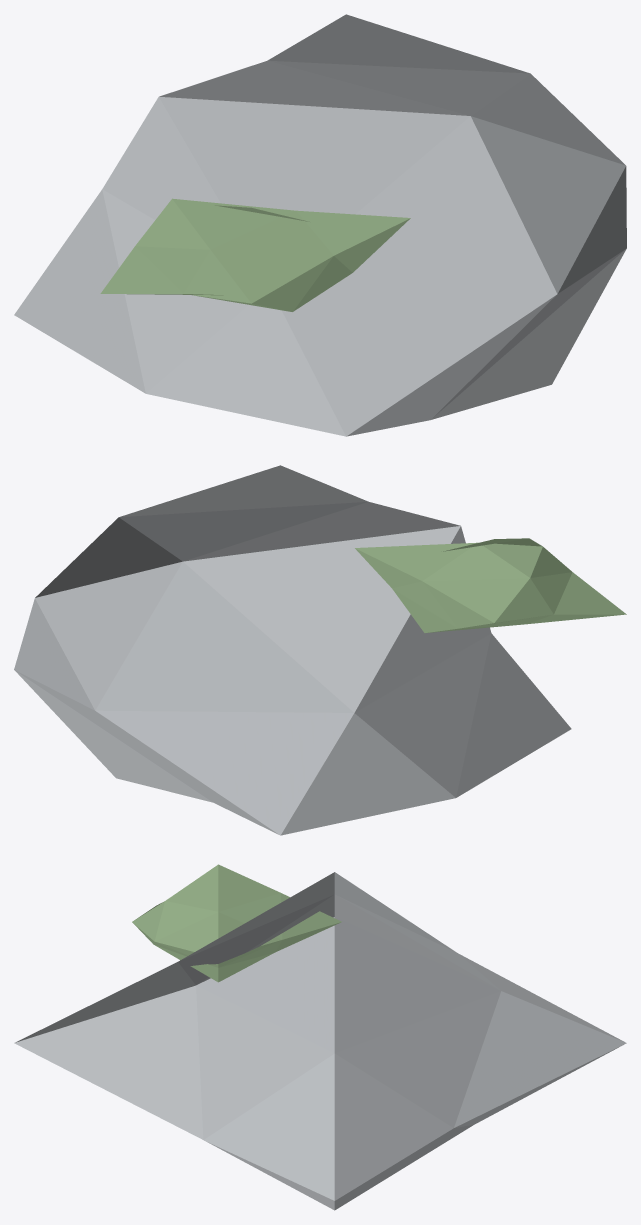
File: boulder_v17.glb
3 renders of one model, top to bottom at view 1: azimuth 30°, elevation 25°; view 2: azimuth 150°, elevation 25°; view 3: azimuth 270°, elevation 25°, orthographic. The views are drawn at different scales.
Parts seen in each view (by area): view 1: lod0; view 2: lod0; view 3: lod0.
Part boxes in pixels (box(x1,y1,x2,y2)): lod0: box(14, 14, 626, 436); lod0: box(14, 465, 626, 835); lod0: box(14, 864, 626, 1210).
Size of what is drawn, in the model's own units: 2.46 by 1.62 by 2.74.
